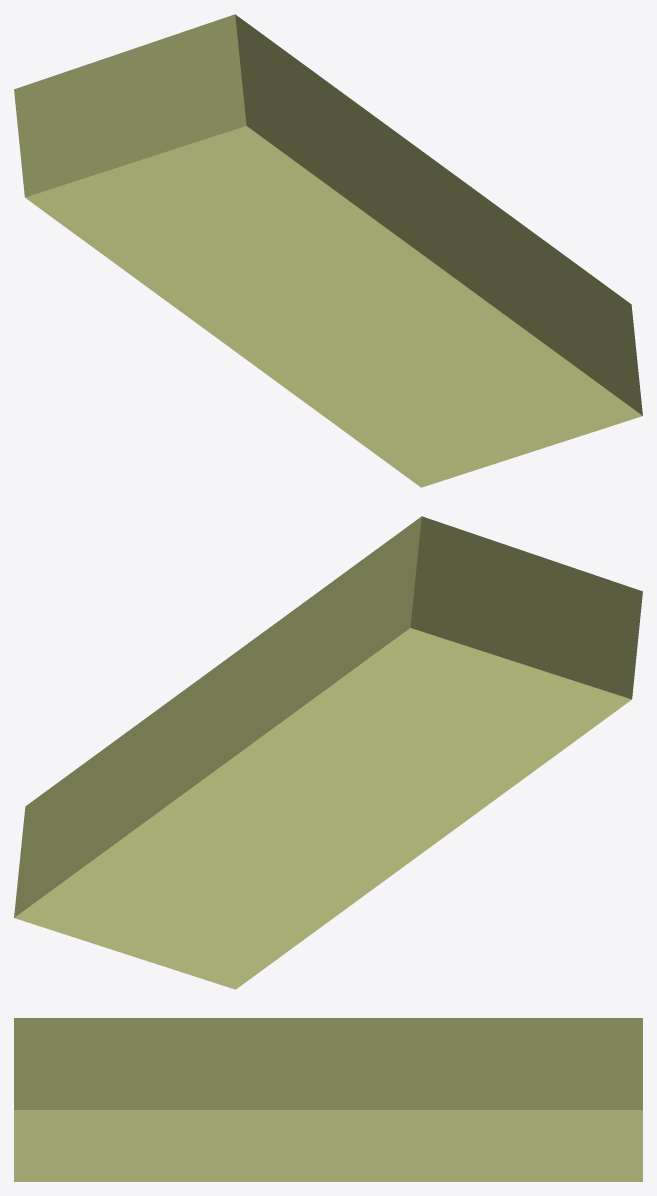
3 renders of one model, top to bottom at view 1: azimuth 30°, elevation 25°; view 2: azimuth 150°, elevation 25°; view 3: azimuth 270°, elevation 25°, orthographic. The views are drawn at different scales.
Parts seen in each view (by area): view 1: 0_2_3_3_3_1_0_0_2_1_2_1; view 2: 0_2_3_3_3_1_0_0_2_1_2_1; view 3: 0_2_3_3_3_1_0_0_2_1_2_1.
Boxes of the visible parts, box(x1,y1,x2,y2) form: 0_2_3_3_3_1_0_0_2_1_2_1: box(14, 14, 642, 487); 0_2_3_3_3_1_0_0_2_1_2_1: box(14, 516, 642, 989); 0_2_3_3_3_1_0_0_2_1_2_1: box(14, 1018, 642, 1181).
Size of the model in its own units: 3.05 by 1.65 by 9.
